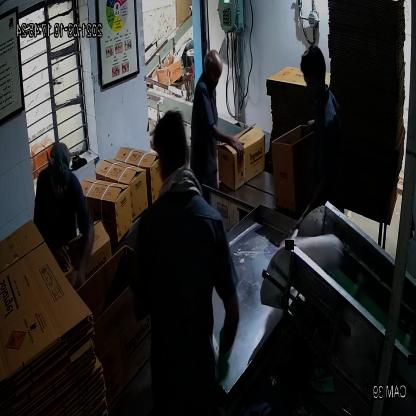glove: (212, 320, 244, 400)
no_glove: (197, 120, 251, 168), (295, 163, 331, 233), (70, 217, 96, 297), (43, 230, 76, 284)
